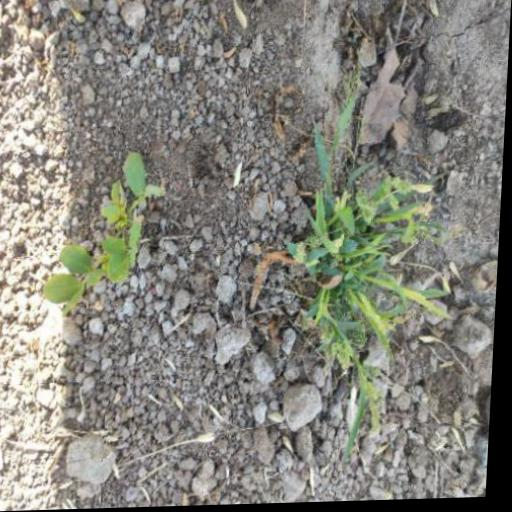weed: (257, 168, 453, 392), (42, 154, 171, 324)
